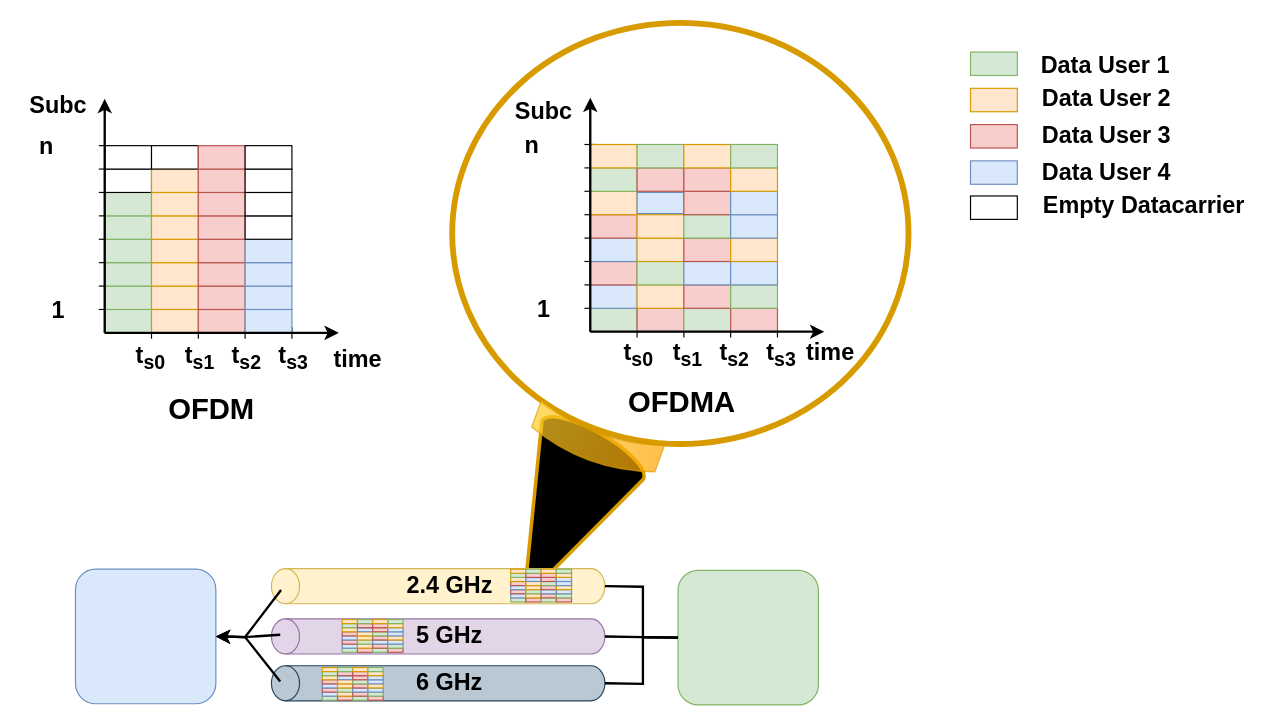
The diagram is 1278 pixels wide and 725 high, and some of its shapes have lost their labels. The box of each missing label's shape, as (x1, y1, x2, y2) in pixels:
Client: (74, 568, 216, 704)
Server: (677, 569, 818, 705)
